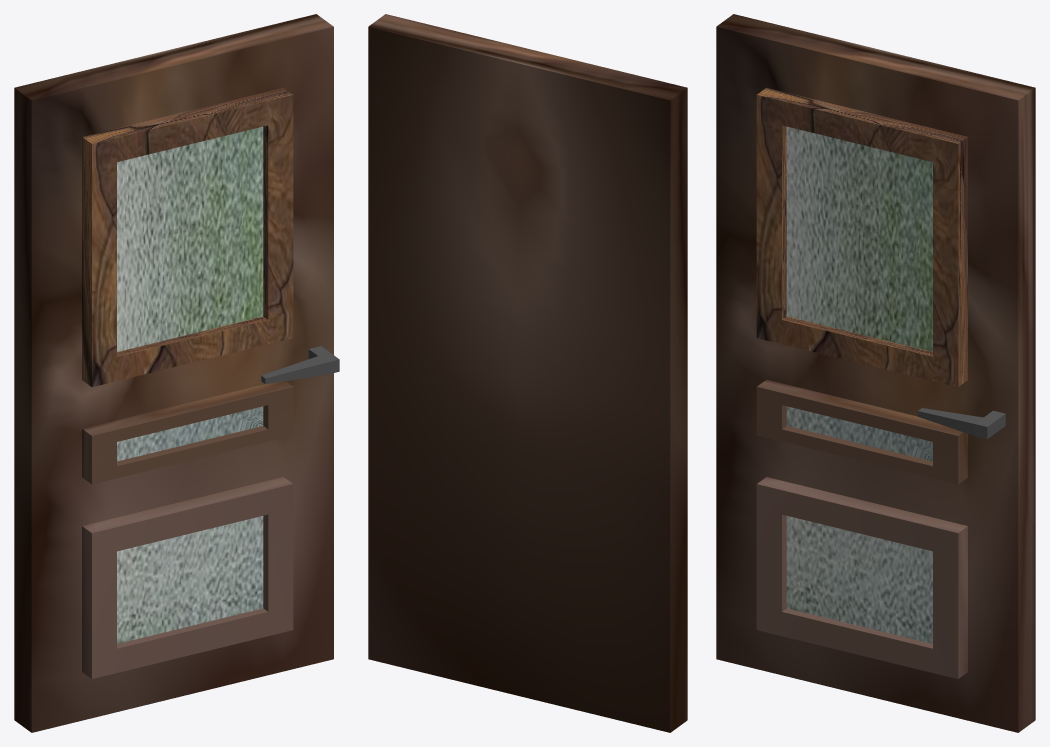
Rendered from Puerta_51.fbx.
3 renders of one model, left to right at view 1: azimuth 30°, elevation 25°; view 2: azimuth 150°, elevation 25°; view 3: azimuth 330°, elevation 25°, orthographic.
Parts seen in each view (by area): view 1: Cube.049; view 2: Cube.049; view 3: Cube.049.
Boxes of the visible parts, <box> form: Cube.049: <box>14,14,339,732</box>; Cube.049: <box>368,14,687,732</box>; Cube.049: <box>716,14,1035,732</box>.
Bounding box in the file's own units: 200 × 400 × 41.01.
